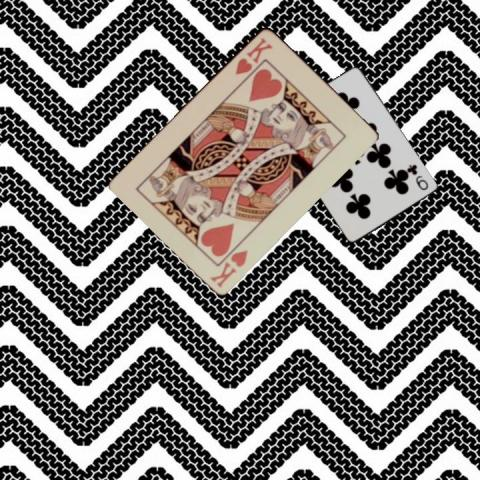9c: (406, 161, 430, 192)
Kh: (232, 33, 274, 76), (207, 246, 249, 289)
